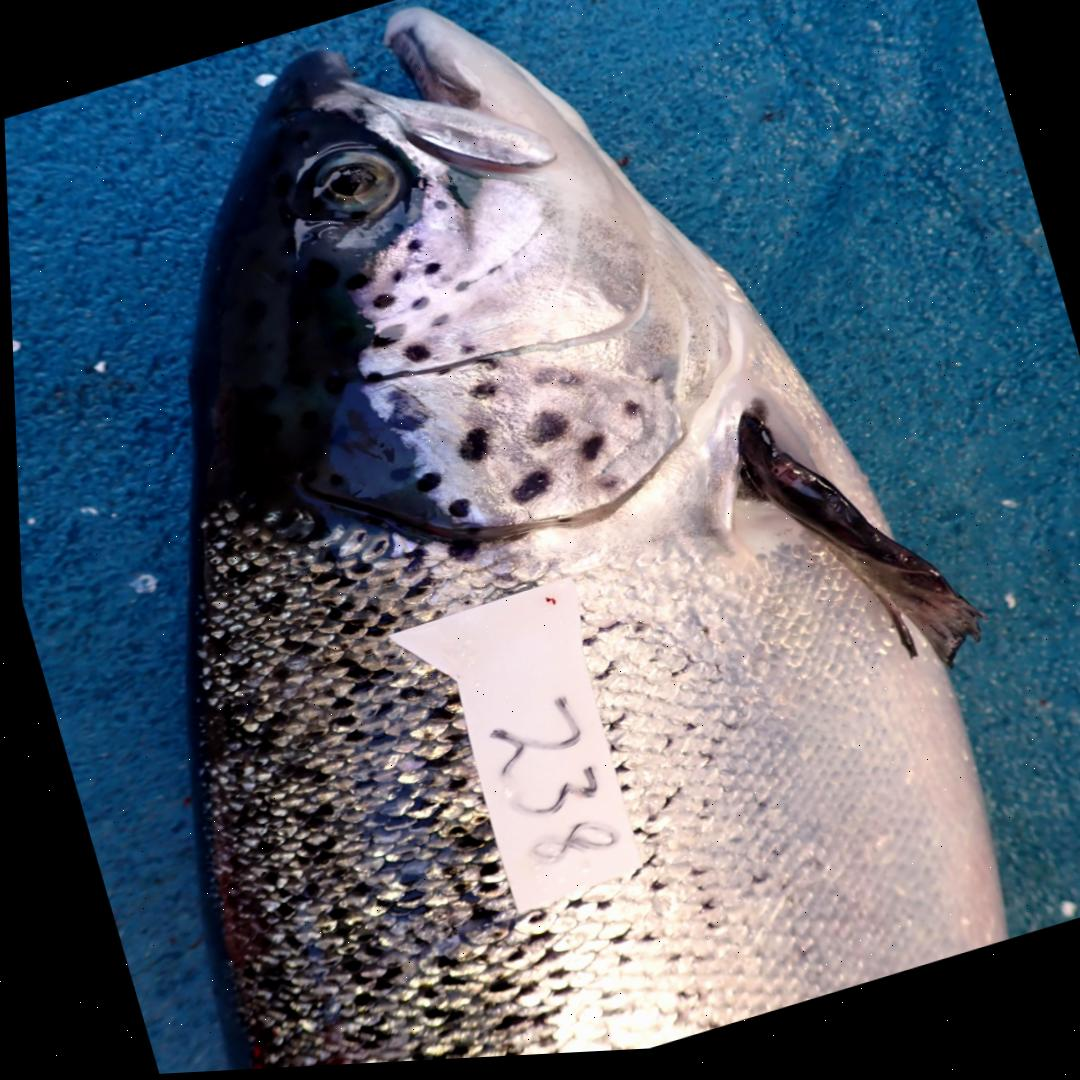spot: (378, 391, 424, 435), (523, 417, 564, 450), (507, 475, 546, 508), (529, 371, 580, 393), (454, 433, 484, 467), (371, 327, 402, 350), (576, 440, 600, 467), (399, 347, 428, 367), (412, 477, 436, 497), (341, 277, 367, 295), (443, 502, 465, 523), (466, 387, 493, 403), (426, 367, 452, 381), (370, 297, 391, 313), (473, 362, 495, 376), (620, 407, 637, 423), (482, 267, 500, 281), (452, 284, 471, 297), (360, 375, 379, 388), (408, 300, 425, 314), (420, 266, 437, 279), (404, 243, 419, 255), (430, 319, 446, 330), (594, 485, 611, 495), (431, 204, 445, 216), (457, 349, 472, 359), (641, 381, 657, 390), (389, 274, 399, 286)
